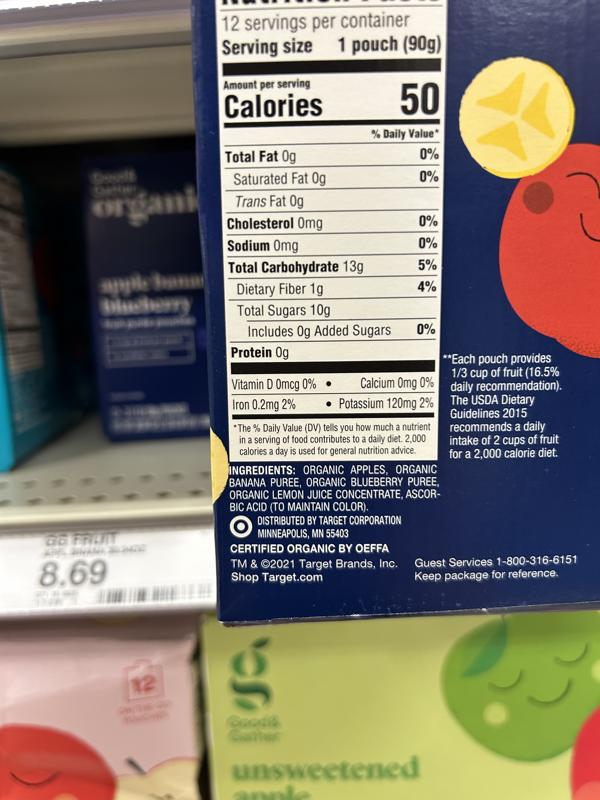ingredients: (227, 463, 442, 513)
